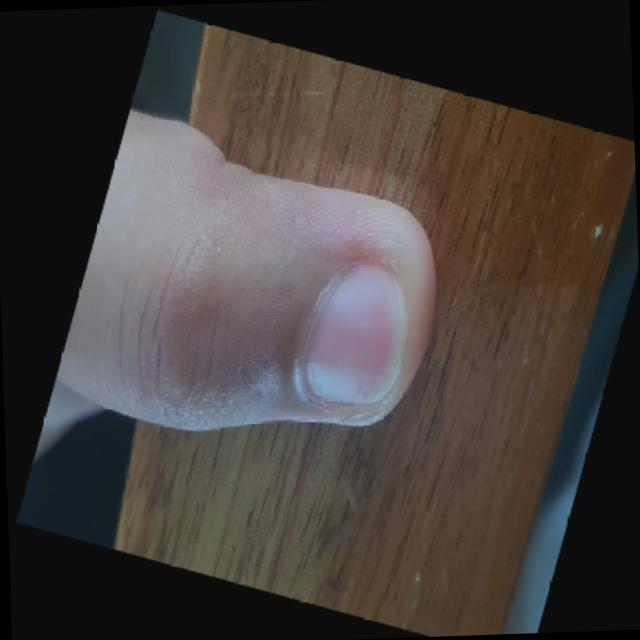Nail: (303, 265, 405, 405)
